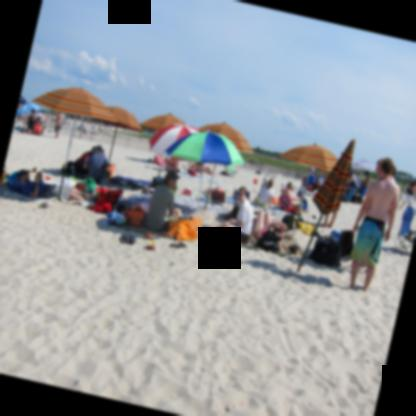backpack: (340, 228, 354, 257), (188, 169, 197, 177)
handbag: (307, 241, 336, 266), (255, 230, 281, 252), (97, 187, 123, 207), (339, 231, 354, 257), (187, 168, 197, 177), (105, 171, 111, 180)
suitcase: (308, 235, 342, 266)
